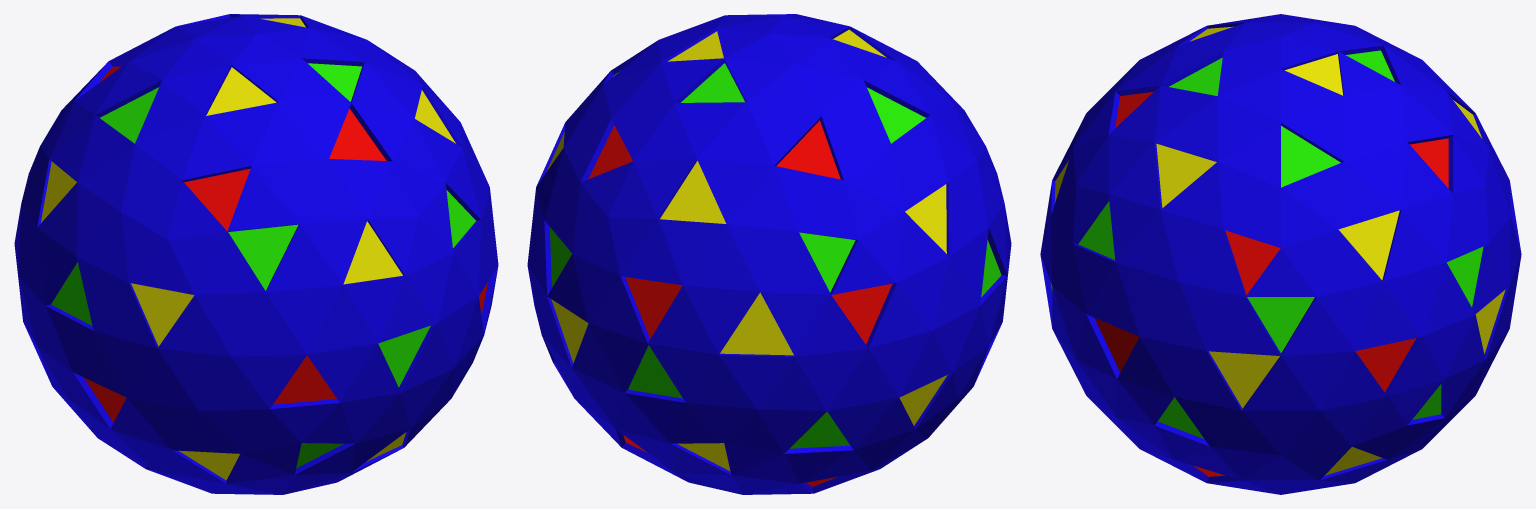
The model's file is Ball_Blue.fbx.
3 renders of one model, left to right at view 1: azimuth 30°, elevation 25°; view 2: azimuth 150°, elevation 25°; view 3: azimuth 270°, elevation 25°, orthographic.
Visible parts, largest first — view 1: Ball; view 2: Ball; view 3: Ball.
Boxes of the visible parts, box(x1,y1,x2,y2) form: Ball: box(14, 14, 498, 494); Ball: box(527, 14, 1011, 494); Ball: box(1040, 14, 1521, 494).
Bounding box in the file's own units: 326 × 326 × 326.
